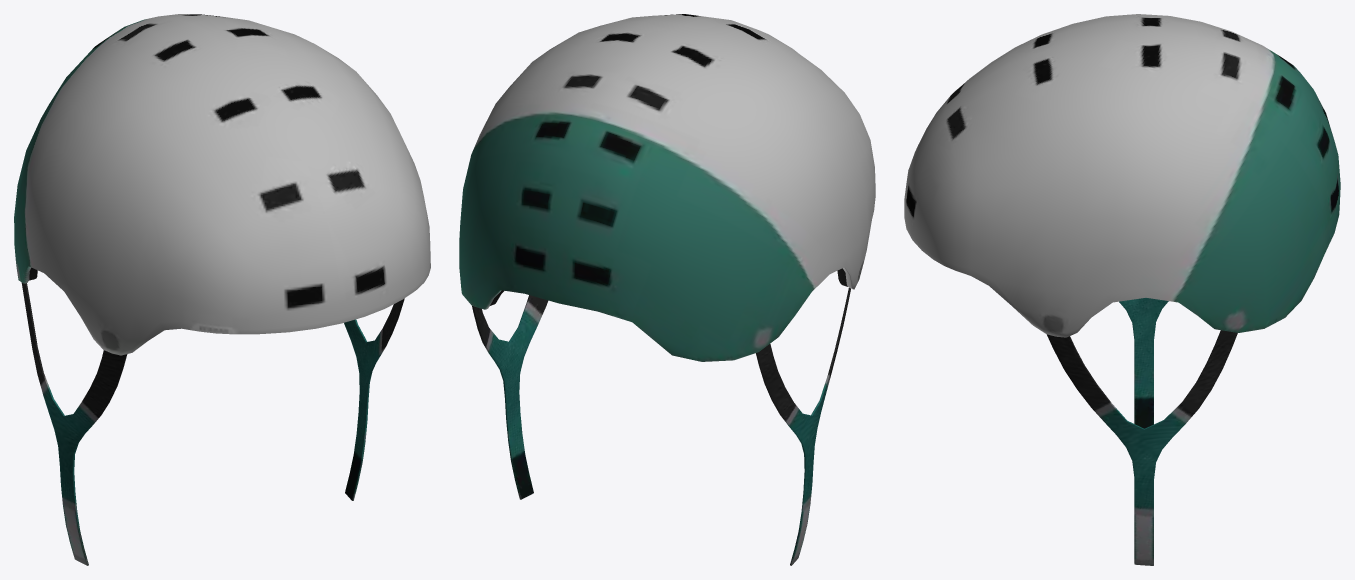
The model's file is helmet_c.glb.
3 views of the same model, side by side, from view 1: azimuth 30°, elevation 25°; view 2: azimuth 150°, elevation 25°; view 3: azimuth 270°, elevation 25° (orthographic). The views are drawn at different scales.
Visible parts, largest first — view 1: helmet; view 2: helmet; view 3: helmet.
Boxes of the visible parts, x1,y1,x2,y2 form: helmet: (14, 14, 430, 565); helmet: (459, 14, 875, 565); helmet: (904, 14, 1340, 565).
Size of the model in its own units: 0.255 by 0.3507 by 0.2957.
Materials: 1 (1 with a texture image).
